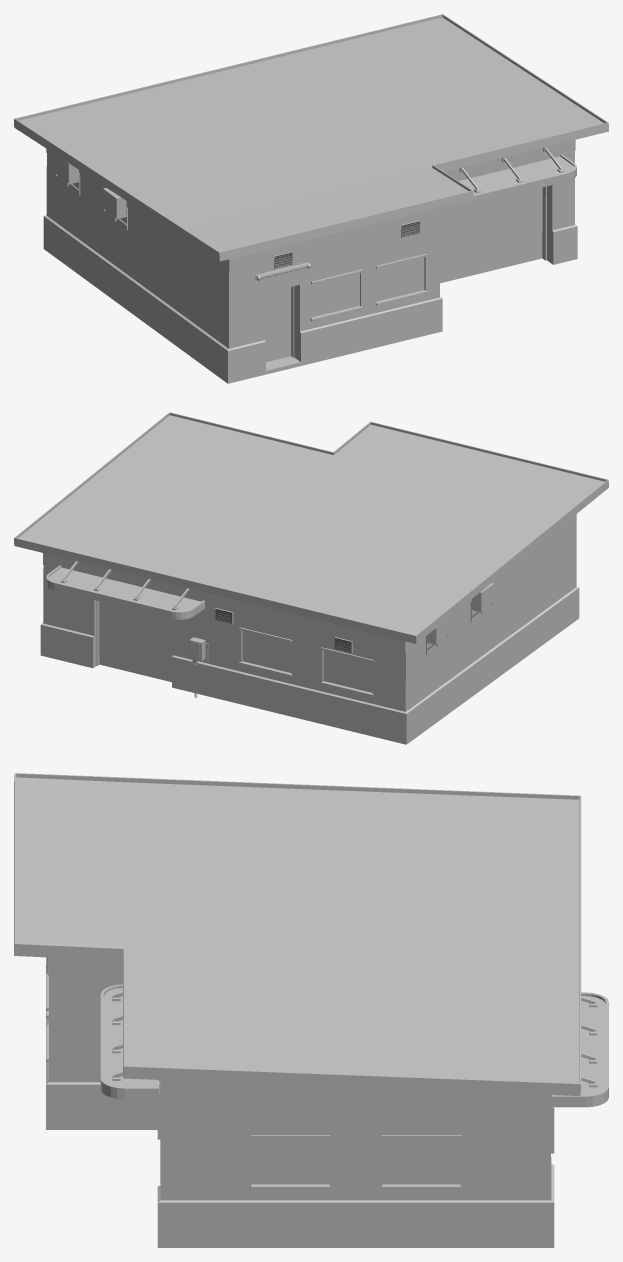
Rendered from urbanGarage.fbx.
3 views of the same model, one above another, from view 1: azimuth 30°, elevation 25°; view 2: azimuth 150°, elevation 25°; view 3: azimuth 270°, elevation 25° (orthographic). The views are drawn at different scales.
Visible parts, largest first — view 1: urbanGarageRoof, urbanGarageBrickWall, urbanGarageConcreteWall, urbanGarageRoofEdge, rollUpDoorYellow, moss, Blueawning, industrialDoor, industrialWindow-Small.003, industrialWindow-Small.002, airconditioning.Low.003; view 2: urbanGarageRoof, urbanGarageBrickWall, urbanGarageConcreteWall, urbanGarageRoofEdge, rollUpDoorT2Green, moss, Grayawning, industrialWindow-Small.004, industrialWindow-Small.005, eletricBox-Low; view 3: urbanGarageRoof, urbanGarageBrickWall, urbanGarageConcreteWall, urbanGarageRoofEdge, moss, industrialWindow-Small.007, industrialWindow-Small.006, Grayawning, Blueawning.
Part boxes in pixels (box(x1,y1,x2,y2)): urbanGarageRoof: box(19, 17, 603, 251); urbanGarageBrickWall: box(46, 151, 574, 348); urbanGarageConcreteWall: box(43, 215, 577, 383); urbanGarageRoofEdge: box(14, 14, 608, 261); rollUpDoorYellow: box(440, 186, 546, 283); moss: box(46, 140, 575, 271); Blueawning: box(441, 146, 576, 211); industrialDoor: box(265, 286, 294, 362); industrialWindow-Small.003: box(375, 253, 427, 305); industrialWindow-Small.002: box(311, 269, 362, 321); airconditioning.Low.003: box(103, 188, 126, 218); urbanGarageRoof: box(18, 415, 604, 635); urbanGarageBrickWall: box(43, 514, 576, 711); urbanGarageConcreteWall: box(40, 587, 579, 744); urbanGarageRoofEdge: box(14, 412, 608, 643); rollUpDoorT2Green: box(96, 601, 173, 682); moss: box(43, 514, 576, 653); Grayawning: box(46, 561, 205, 619); industrialWindow-Small.004: box(239, 627, 292, 676); industrialWindow-Small.005: box(321, 647, 373, 696); eletricBox-Low: box(189, 637, 208, 697); urbanGarageRoof: box(16, 777, 579, 1083); urbanGarageBrickWall: box(49, 976, 551, 1200); urbanGarageConcreteWall: box(46, 967, 554, 1247); urbanGarageRoofEdge: box(14, 773, 581, 1095); moss: box(48, 957, 551, 1114); industrialWindow-Small.007: box(381, 1135, 462, 1189); industrialWindow-Small.006: box(250, 1135, 330, 1189); Grayawning: box(552, 992, 608, 1107); Blueawning: box(100, 984, 158, 1099).
Bounding box in the file's own units: 1223 × 406 × 1066.
